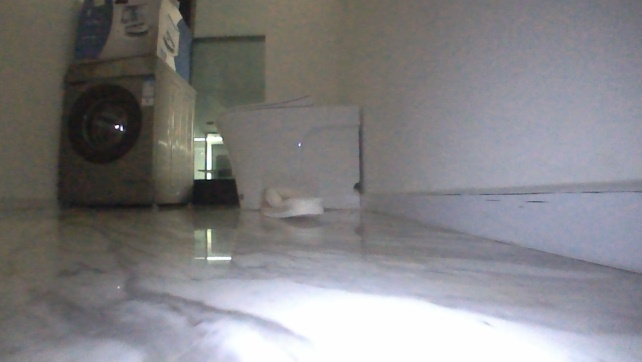shoe: (254, 182, 327, 223)
toilet: (212, 93, 365, 214)
washing_machine: (51, 49, 200, 212)
